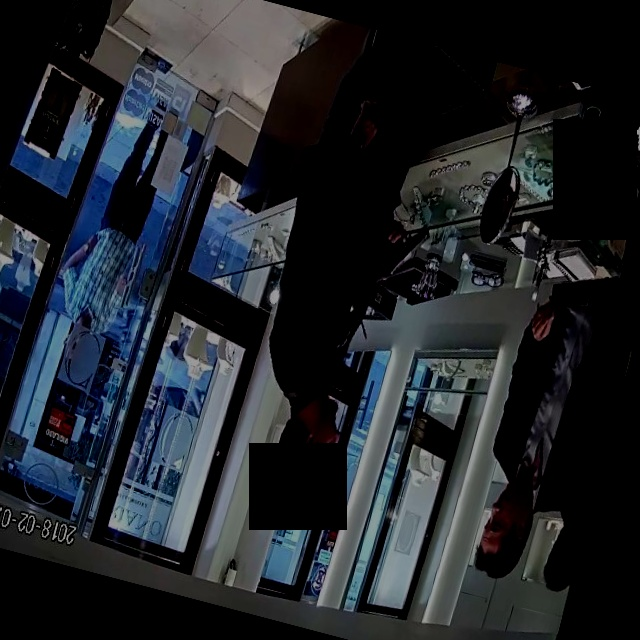gun: (377, 196, 449, 303)
